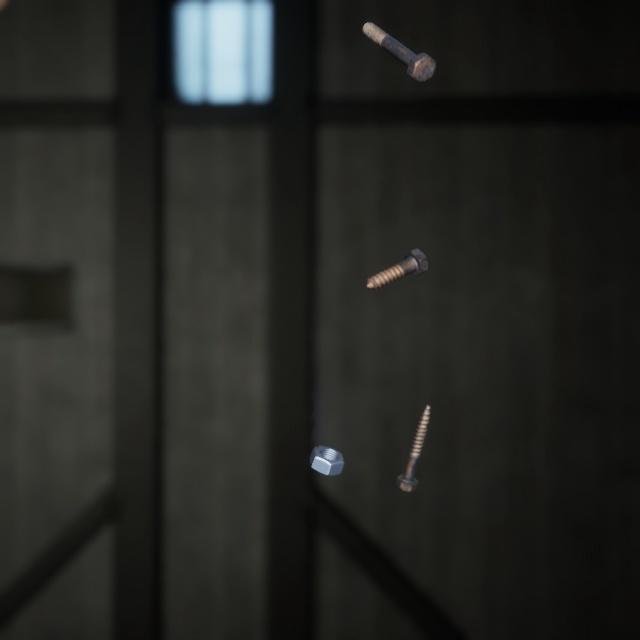bolt: (357, 9, 441, 79), (390, 380, 434, 477), (361, 227, 432, 278)
nut: (307, 421, 350, 458)
